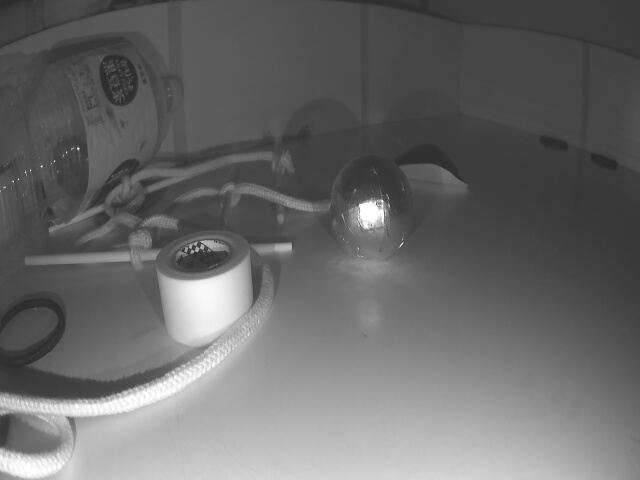Live: (329, 152, 415, 261)
